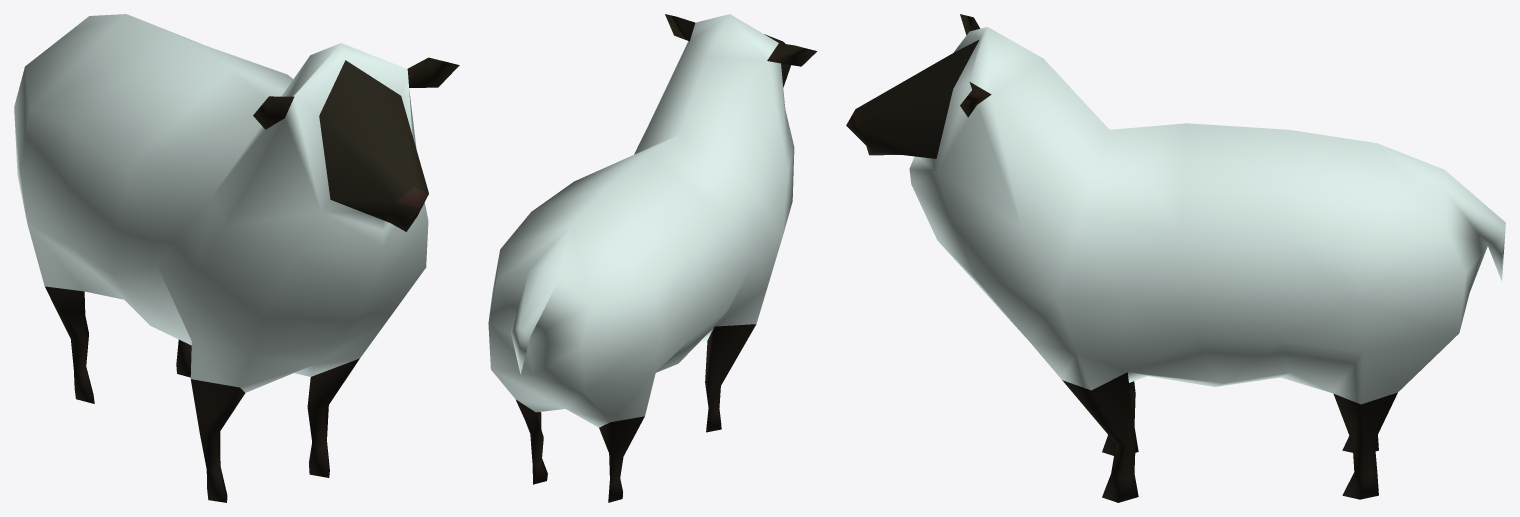
The model's file is scene_COdFYkNuJR.glb.
3 views of the same model, side by side, from view 1: azimuth 30°, elevation 25°; view 2: azimuth 150°, elevation 25°; view 3: azimuth 270°, elevation 25° (orthographic). The views are drawn at different scales.
Visible parts, largest first — view 1: Sheep-ver2; view 2: Sheep-ver2; view 3: Sheep-ver2.
Part boxes in pixels (bbox=[...]): Sheep-ver2: bbox=[14, 14, 459, 502]; Sheep-ver2: bbox=[488, 14, 816, 502]; Sheep-ver2: bbox=[846, 14, 1505, 502].
Size of the model in its own units: 0.4199 by 0.8672 by 1.15.
Materials: 1 (1 with a texture image).
